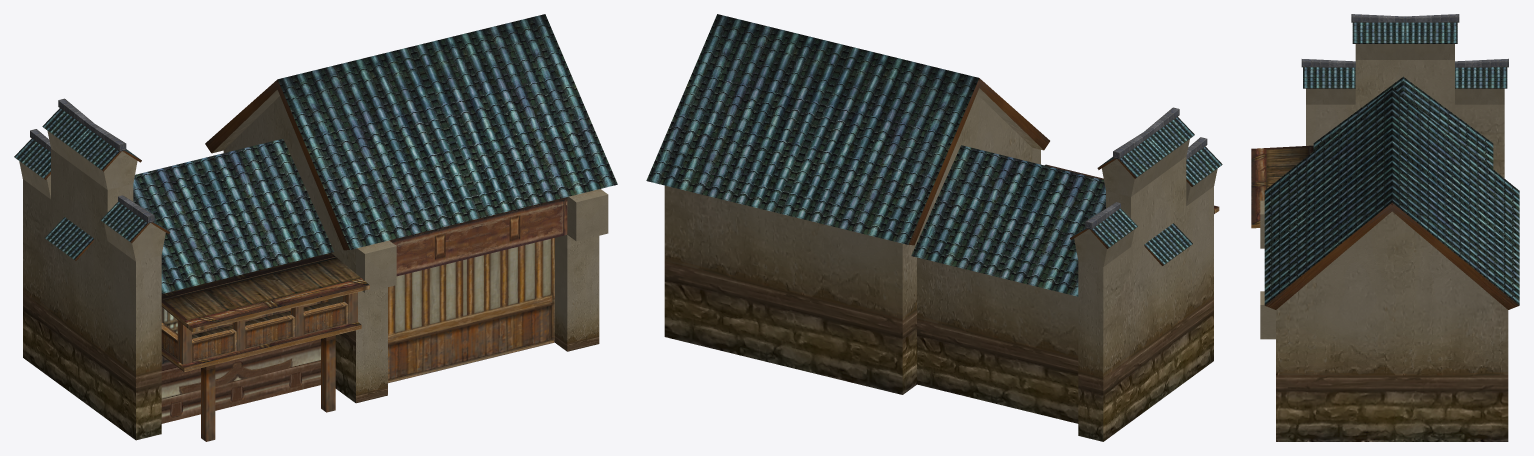
The model's file is a_fangzi_003.fbx.
3 renders of one model, left to right at view 1: azimuth 30°, elevation 25°; view 2: azimuth 150°, elevation 25°; view 3: azimuth 270°, elevation 25°, orthographic. The views are drawn at different scales.
Visible parts, largest first — view 1: polySurface63, polySurface69, polySurface67, polySurface58, polySurface59, polySurface71, polySurface65, polySurface79, polySurface80, polySurface61, polySurface74, polySurface64 (+12 smaller); view 2: polySurface64, polySurface60, polySurface69, polySurface66, polySurface68, polySurface61, polySurface63, polySurface89, polySurface93, polySurface73, polySurface90, polySurface94 (+2 smaller); view 3: polySurface62, polySurface63, polySurface64, polySurface69, polySurface71, polySurface68, polySurface100, polySurface88, polySurface92, polySurface96, polySurface85, polySurface89 (+8 smaller).
Part boxes in pixels (box(x1,y1,x2,y2)): polySurface63: box(277, 14, 617, 250); polySurface69: box(23, 149, 161, 440); polySurface67: box(133, 139, 334, 293); polySurface58: box(465, 197, 567, 364); polySurface59: box(388, 219, 477, 383); polySurface71: box(161, 253, 369, 332); polySurface65: box(161, 299, 328, 423); polySurface79: box(554, 189, 608, 351); polySurface80: box(356, 240, 396, 403); polySurface61: box(223, 96, 355, 402); polySurface74: box(161, 301, 361, 371); polySurface64: box(205, 79, 279, 153); polySurface64: box(646, 14, 979, 245); polySurface60: box(664, 185, 902, 394); polySurface69: box(1078, 157, 1213, 441); polySurface66: box(917, 257, 1078, 423); polySurface68: box(911, 145, 1105, 296); polySurface61: box(902, 94, 1032, 394); polySurface63: box(977, 78, 1049, 150); polySurface89: box(1074, 229, 1134, 266); polySurface93: box(1102, 159, 1162, 196); polySurface73: box(1144, 223, 1192, 265); polySurface90: box(1089, 208, 1137, 248); polySurface94: box(1117, 138, 1165, 178); polySurface62: box(1276, 211, 1508, 441); polySurface63: box(1264, 88, 1392, 309); polySurface64: box(1392, 88, 1519, 309); polySurface69: box(1306, 60, 1504, 178); polySurface71: box(1251, 145, 1313, 228); polySurface68: box(1403, 77, 1493, 168); polySurface100: box(1352, 22, 1405, 43); polySurface88: box(1303, 67, 1355, 88); polySurface92: box(1455, 67, 1507, 88); polySurface96: box(1405, 22, 1457, 43); polySurface85: box(1306, 88, 1355, 104); polySurface89: box(1455, 88, 1504, 104).
Bounding box in the file's own units: 10.84 × 6.03 × 5.99.
